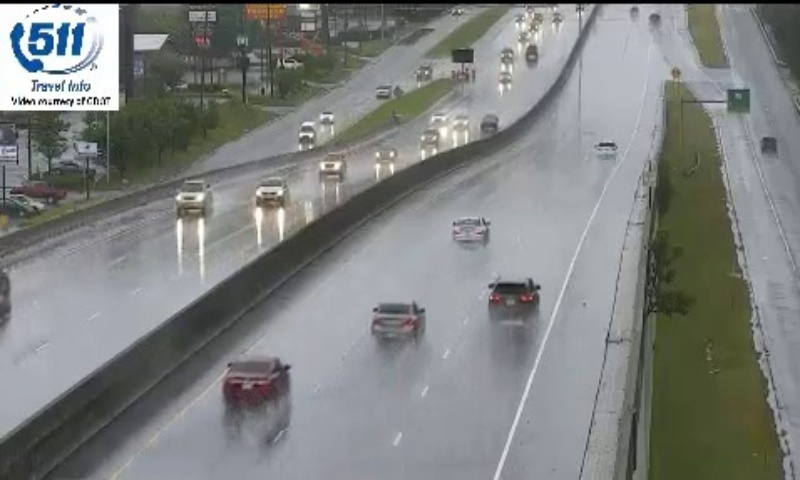car: (222, 358, 289, 407), (371, 301, 423, 345), (488, 278, 538, 318), (453, 217, 488, 243)
